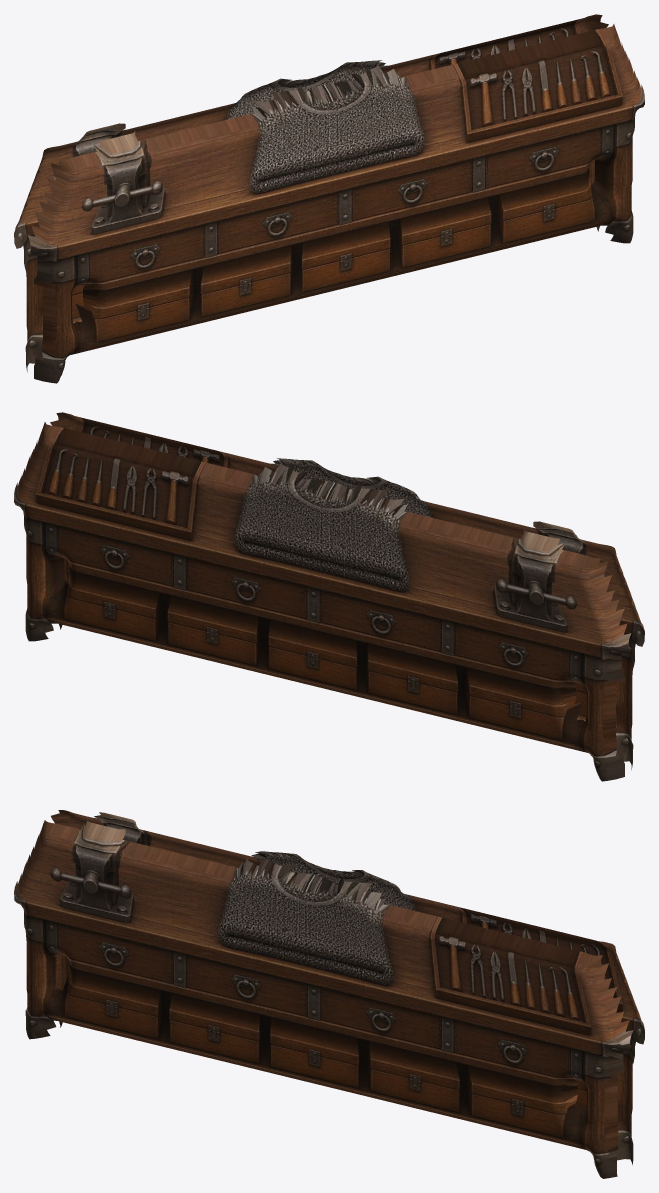
The model's file is v4-armory-scatter-workbench.glb.
The picture shows the model from 3 angles, top to bottom: view 1: azimuth 30°, elevation 25°; view 2: azimuth 150°, elevation 25°; view 3: azimuth 330°, elevation 25°; orthographic projection.
Parts seen in each view (by area): view 1: v4-armory-scatter-workbench; view 2: v4-armory-scatter-workbench; view 3: v4-armory-scatter-workbench.
Boxes of the visible parts, box(x1,y1,x2,y2) form: v4-armory-scatter-workbench: box(14, 14, 644, 383); v4-armory-scatter-workbench: box(14, 412, 644, 781); v4-armory-scatter-workbench: box(14, 810, 644, 1178).
Size of the model in its own units: 2.71 by 0.9636 by 0.24.
1 material, 1 textured.
